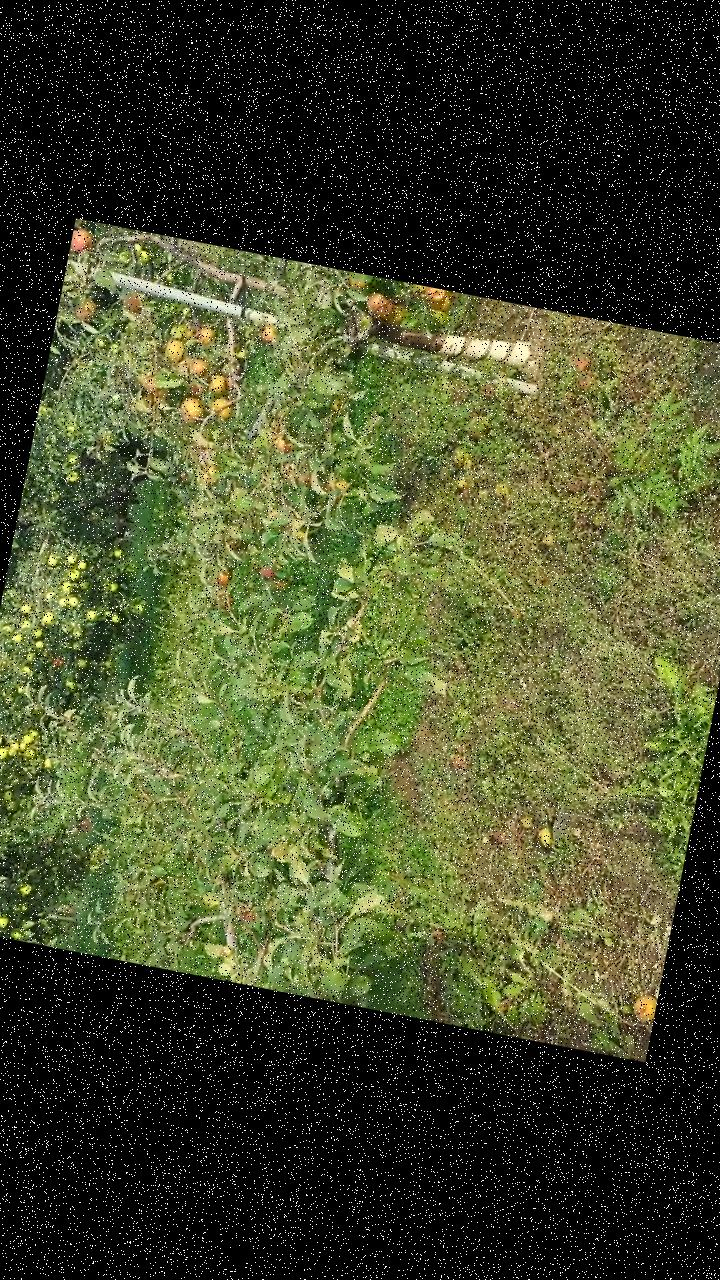Apple: (69, 227, 97, 256), (423, 286, 452, 312), (176, 395, 203, 421), (366, 292, 393, 316), (320, 475, 348, 496), (208, 396, 232, 420), (206, 370, 228, 394), (270, 433, 292, 455), (72, 298, 94, 318), (164, 338, 184, 360), (187, 356, 208, 376), (256, 323, 274, 342), (197, 462, 214, 482), (346, 277, 371, 290), (420, 286, 443, 300), (123, 292, 139, 312), (197, 326, 214, 342), (214, 570, 229, 586), (142, 377, 158, 391), (258, 565, 274, 579)
